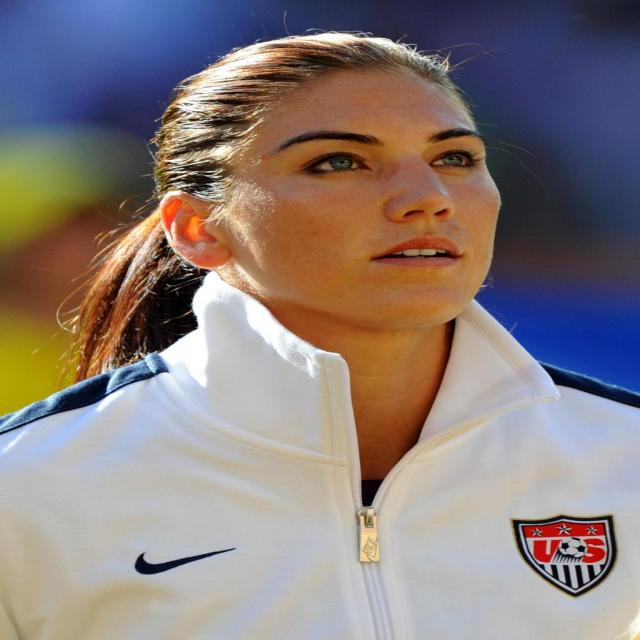Face: (206, 61, 532, 340)
